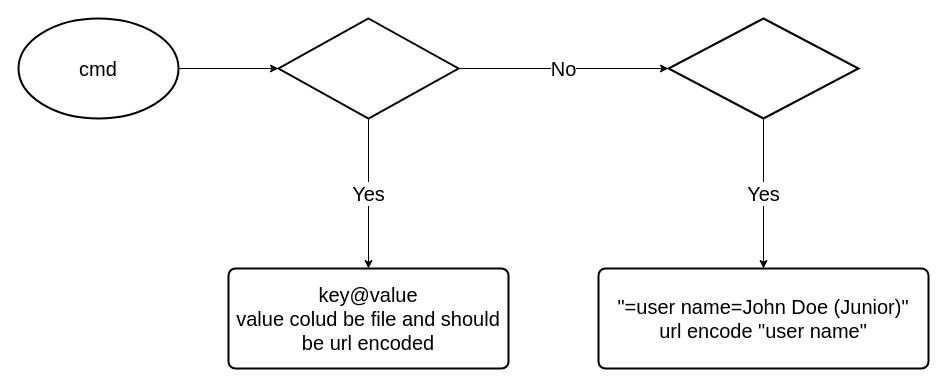
This 946x386 diagram has some shape labels left out. Each missing label, with the centre of its shape:
contains "@": [368,68]
leading "=": [763,68]
